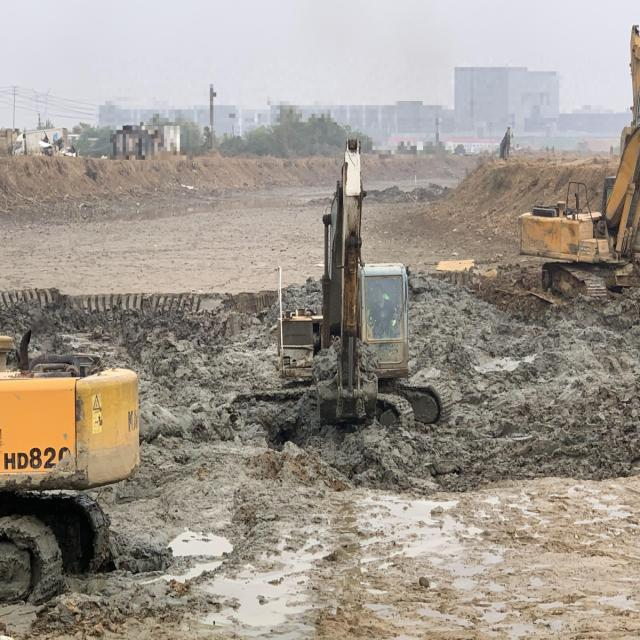excavator: (276, 136, 454, 429), (0, 330, 139, 605), (518, 24, 640, 303), (499, 125, 509, 161)
